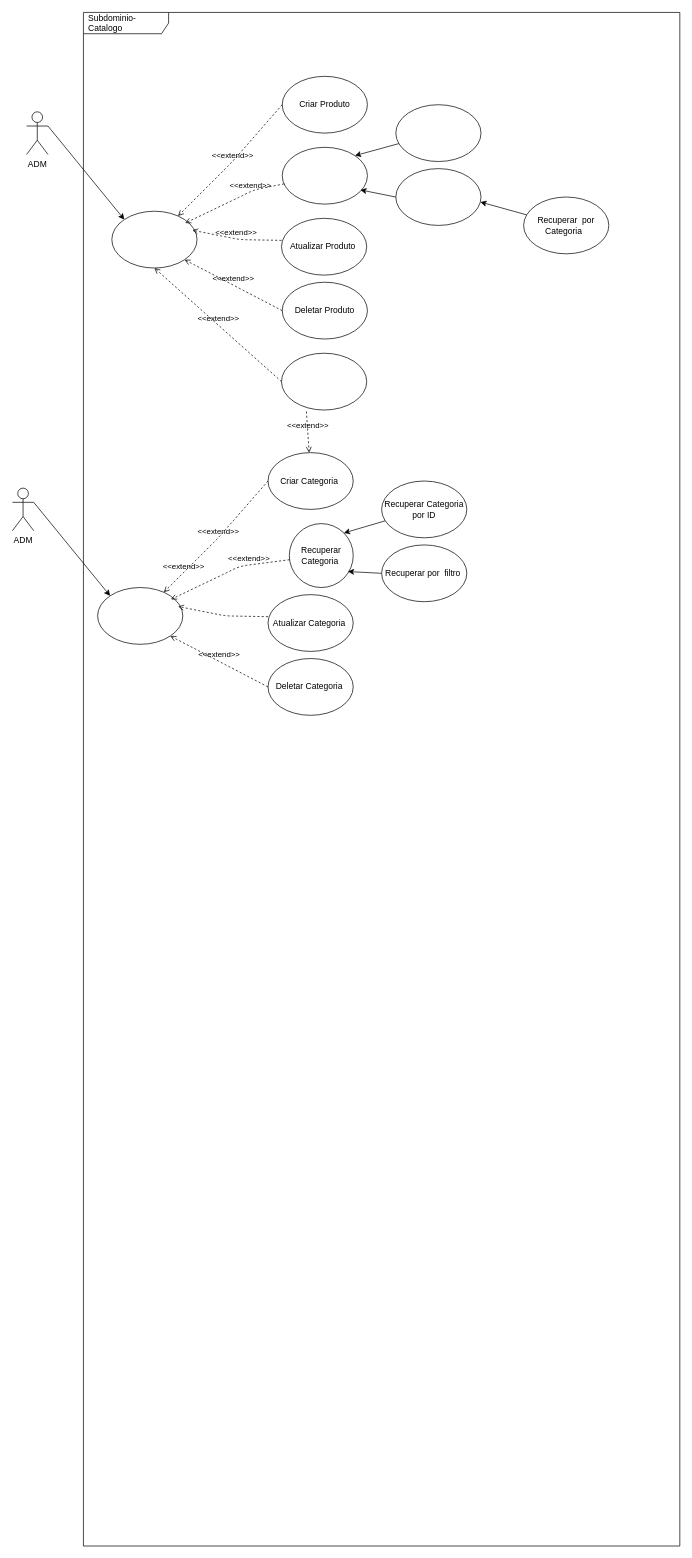
Image size: 692x1558. Some labels were removed from this diagram. The centre of each missing label's shape, as x and y in pixels:
"Adicionar Categoria" goes at point 324,381.
"gerenciar categoria" goes at point 140,615.
"Gerenciar Produto" goes at point 154,239.
"Recuperar Produto" goes at point 324,175.
"Recuperar Produto por filtro" goes at point 438,196.
"Recuperar Produto por ID" goes at point 438,133.
